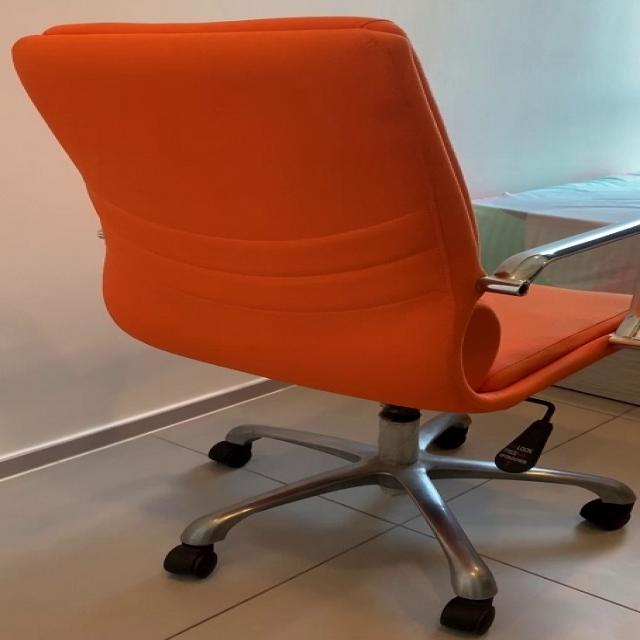Chair: (8, 15, 640, 640)
